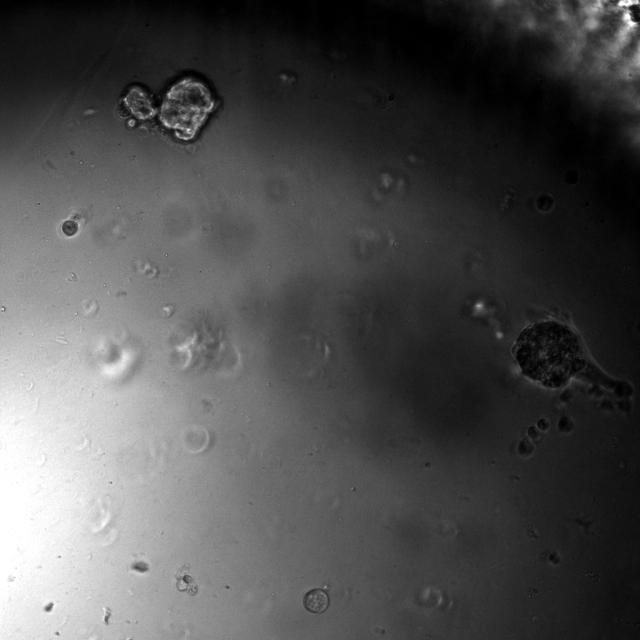organoid: (511, 316, 634, 414), (116, 75, 221, 142), (174, 565, 198, 594), (304, 589, 328, 613), (516, 437, 534, 457), (557, 413, 574, 432), (61, 219, 78, 236), (132, 560, 149, 573), (558, 388, 572, 403), (527, 425, 540, 440), (536, 418, 549, 431), (44, 601, 54, 612)
